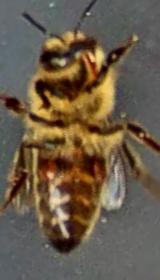varroa_mite: (34, 151, 70, 187), (88, 148, 110, 186)
